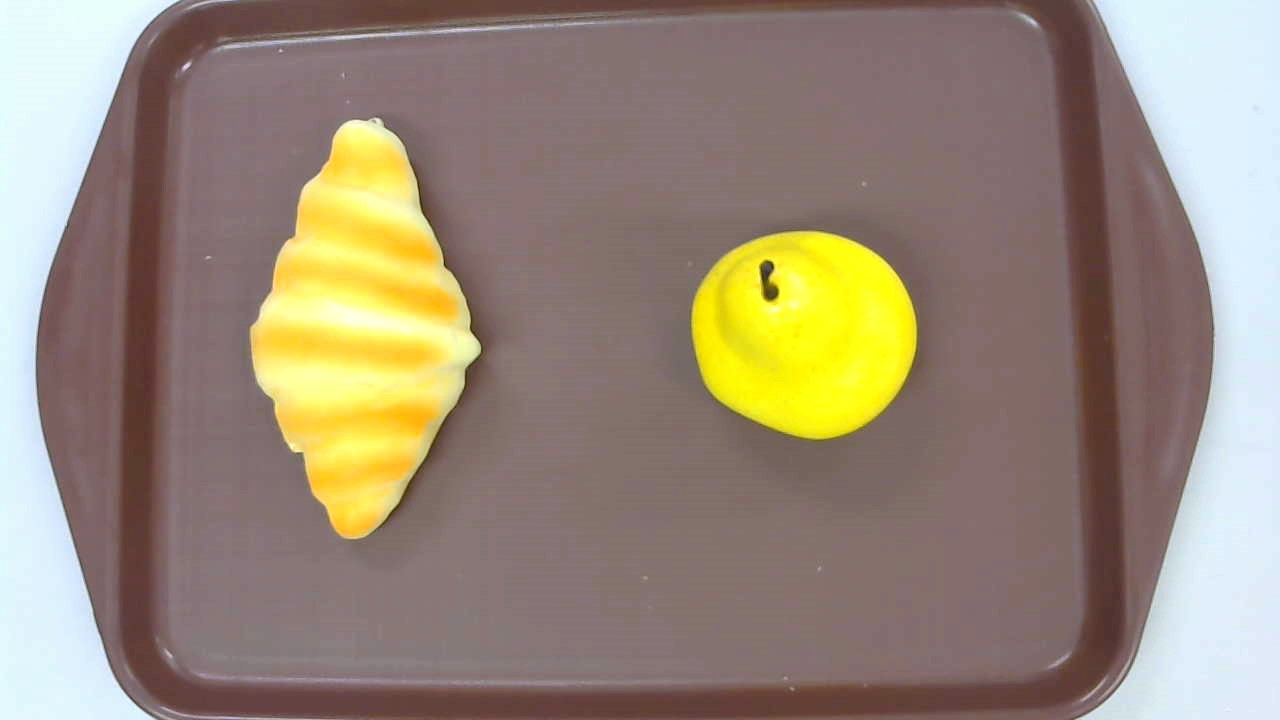croissant: (247, 118, 481, 540)
yellow pear: (691, 228, 916, 443)
